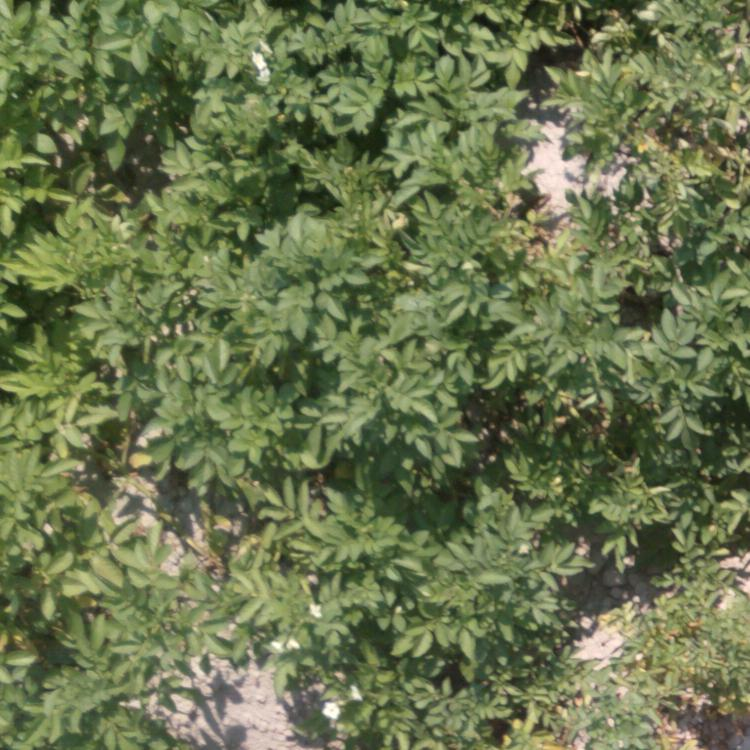healthy: (1, 446, 393, 742), (1, 263, 473, 444), (1, 1, 315, 265), (317, 1, 481, 245), (495, 1, 584, 174), (649, 2, 740, 87)
stressed: (484, 502, 750, 748), (565, 264, 750, 503), (593, 96, 750, 258)
